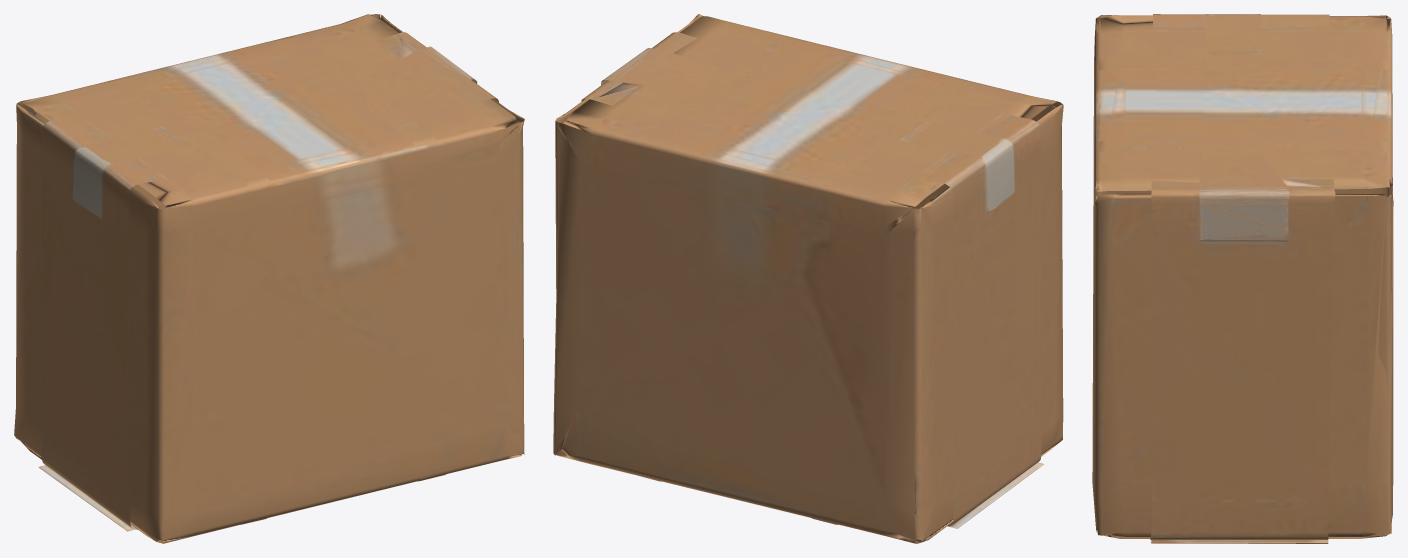
Rendered from mall-cardboard-box-flaps.glb.
3 renders of one model, left to right at view 1: azimuth 30°, elevation 25°; view 2: azimuth 150°, elevation 25°; view 3: azimuth 270°, elevation 25°, orthographic.
Parts seen in each view (by area): view 1: cardboard-box-flaps; view 2: cardboard-box-flaps; view 3: cardboard-box-flaps.
Boxes of the visible parts, x1,y1,x2,y2 form: cardboard-box-flaps: (14, 14, 524, 543); cardboard-box-flaps: (553, 14, 1063, 543); cardboard-box-flaps: (1092, 14, 1393, 543).
Size of the model in its own units: 0.55 by 0.4833 by 0.3763.
Materials: 1 (1 with a texture image).
